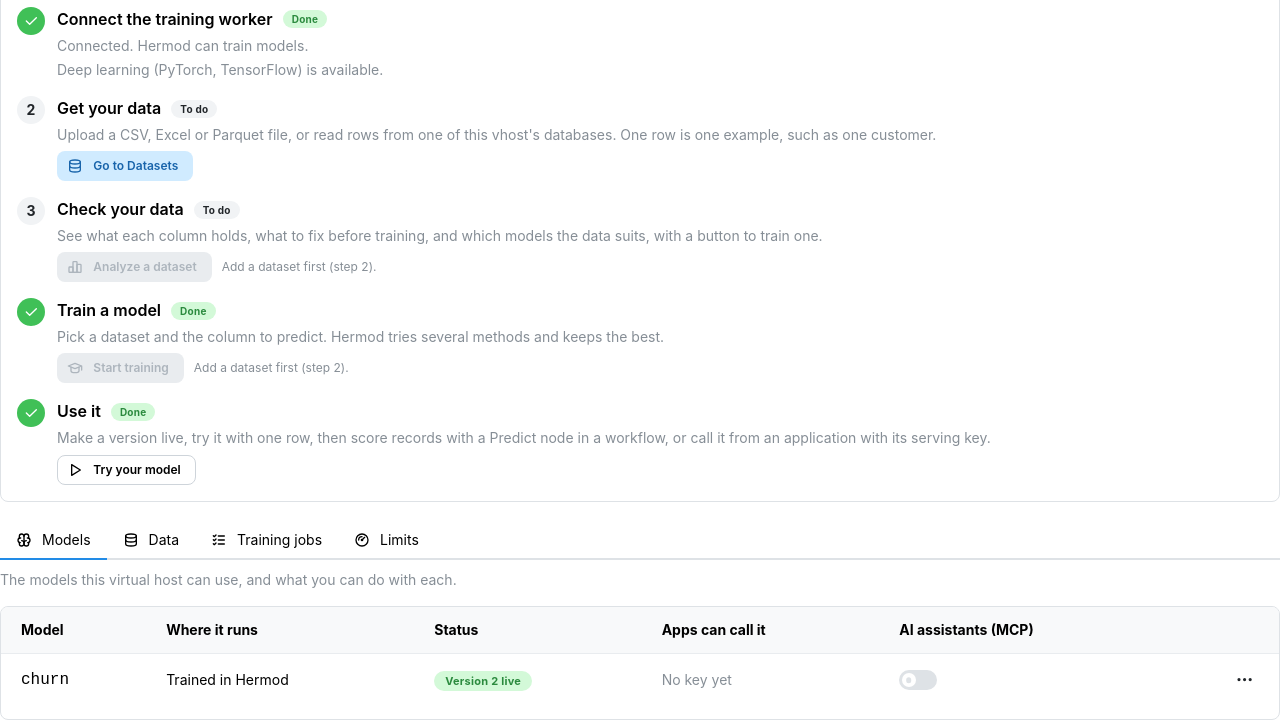
Test: Scoring on the Models page › says why a model set to in-process is still scored by the worker
(page scrolled)
Click the button named "More actions for churn" at (1245, 680), box [1231,666,1259,694]
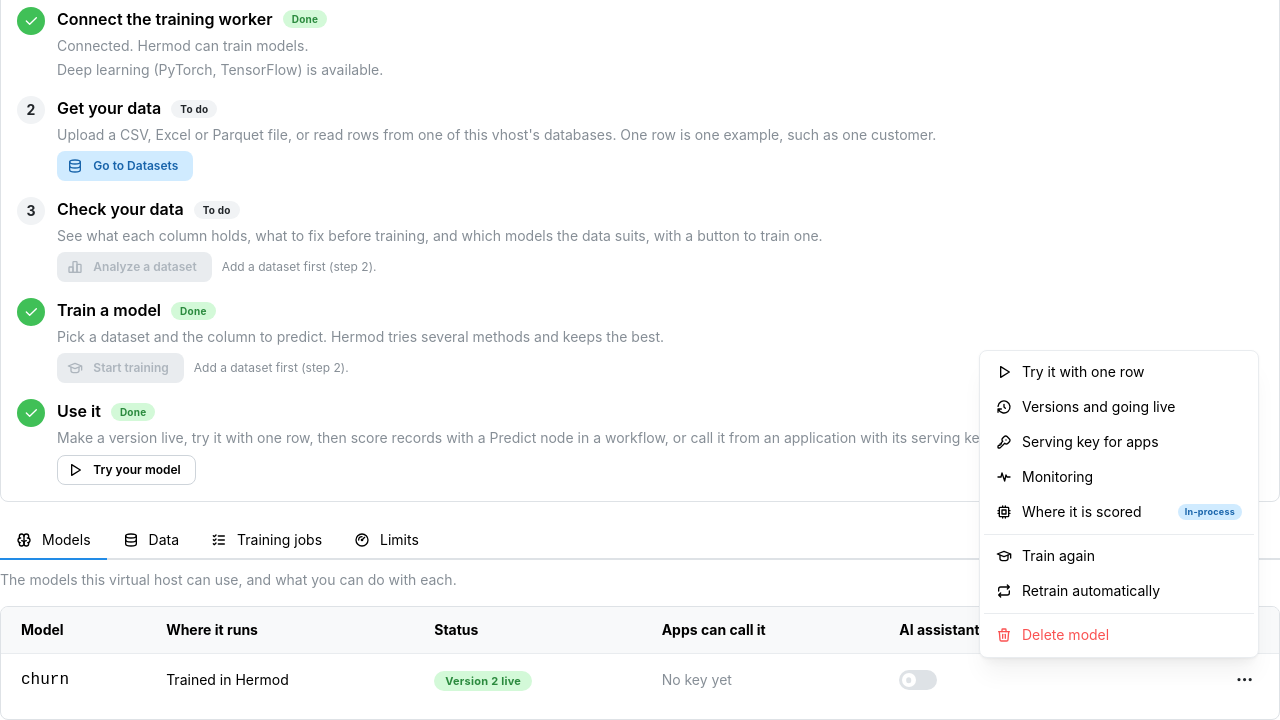
Click the menu item "Where it is scored In-process" at (1119, 512), box [984,494,1254,530]
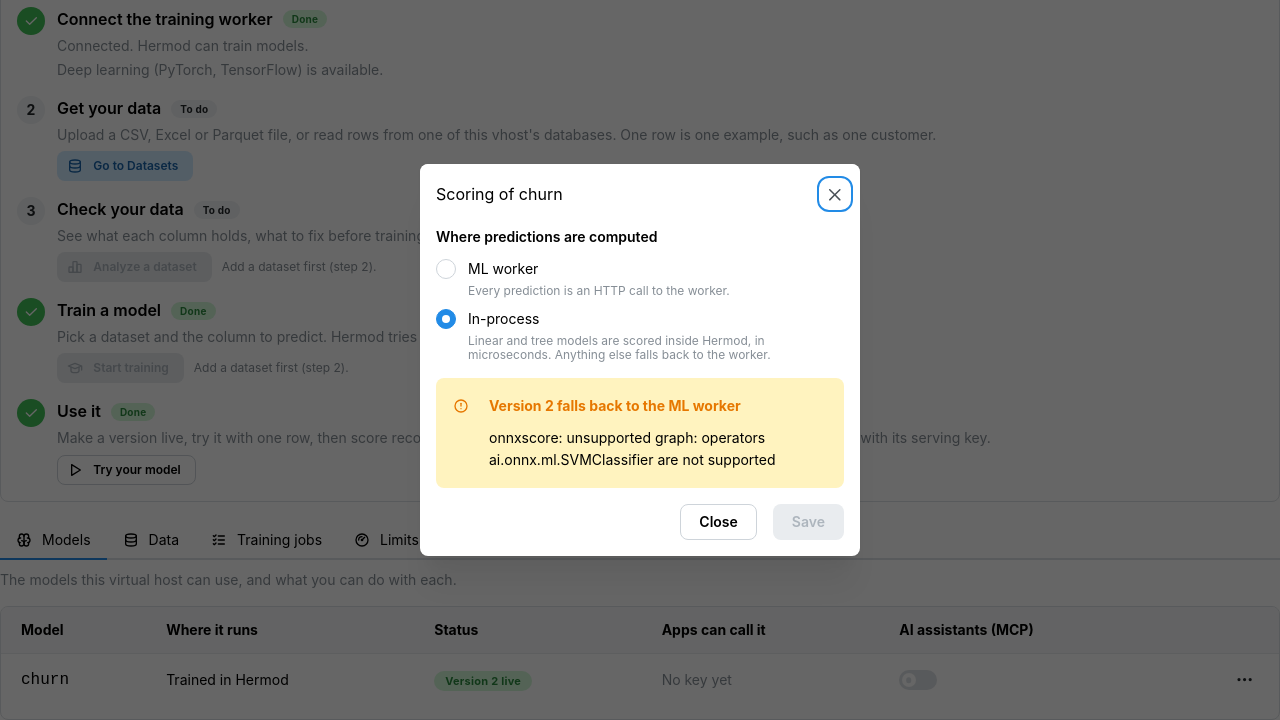
Now the text "Version 2 falls back to the ML worker" is shown, box [489,396,741,417]
Now the text "SVMClassifier are not supported" is shown, box [489,429,776,468]
